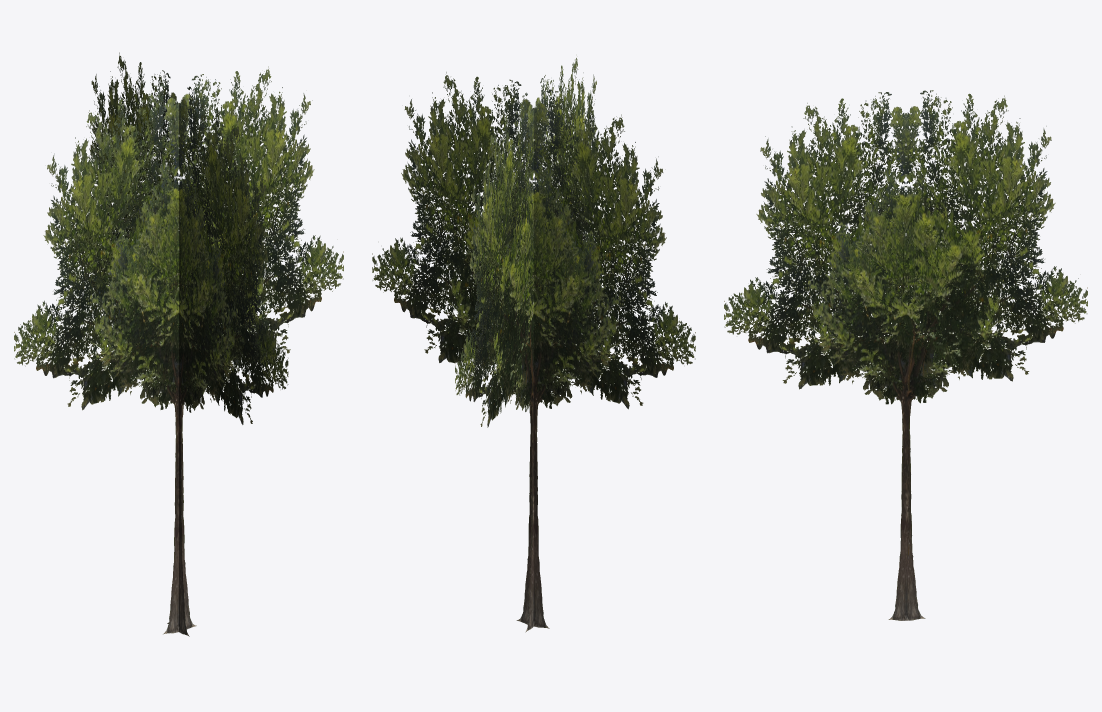
The model's file is shu.gltf.
3 views of the same model, side by side, from view 1: azimuth 30°, elevation 25°; view 2: azimuth 150°, elevation 25°; view 3: azimuth 270°, elevation 25° (orthographic). The views are drawn at different scales.
Parts seen in each view (by area): view 1: Y_UP; view 2: Y_UP; view 3: Y_UP.
Boxes of the visible parts, box(x1,y1,x2,y2) form: Y_UP: box(14, 52, 343, 636); Y_UP: box(372, 58, 695, 632); Y_UP: box(724, 90, 1087, 620).
Size of the model in its own units: 5 by 8 by 4.98.
Materials: 1 (1 with a texture image).
